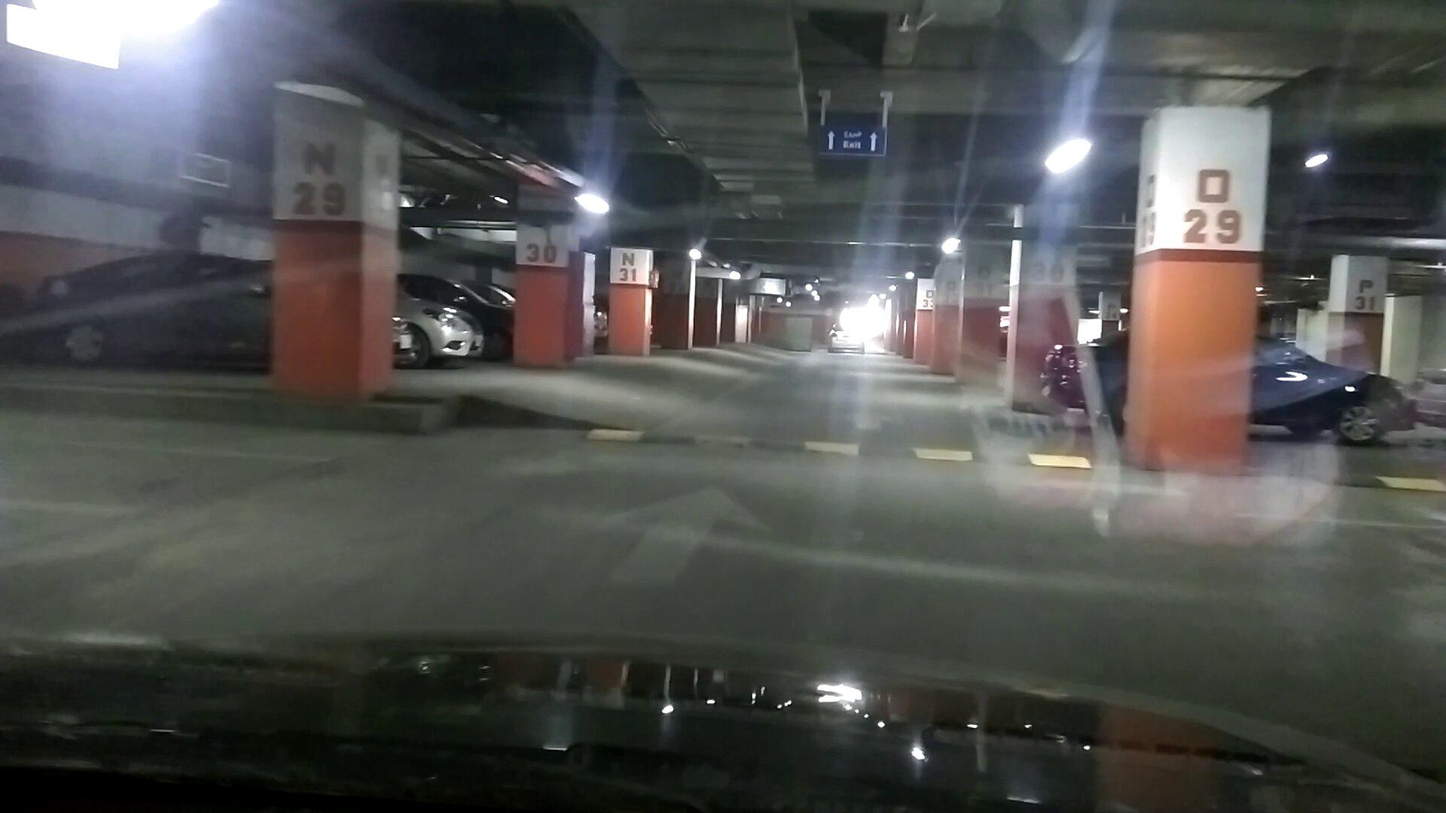Bump: (572, 423, 1109, 474)
